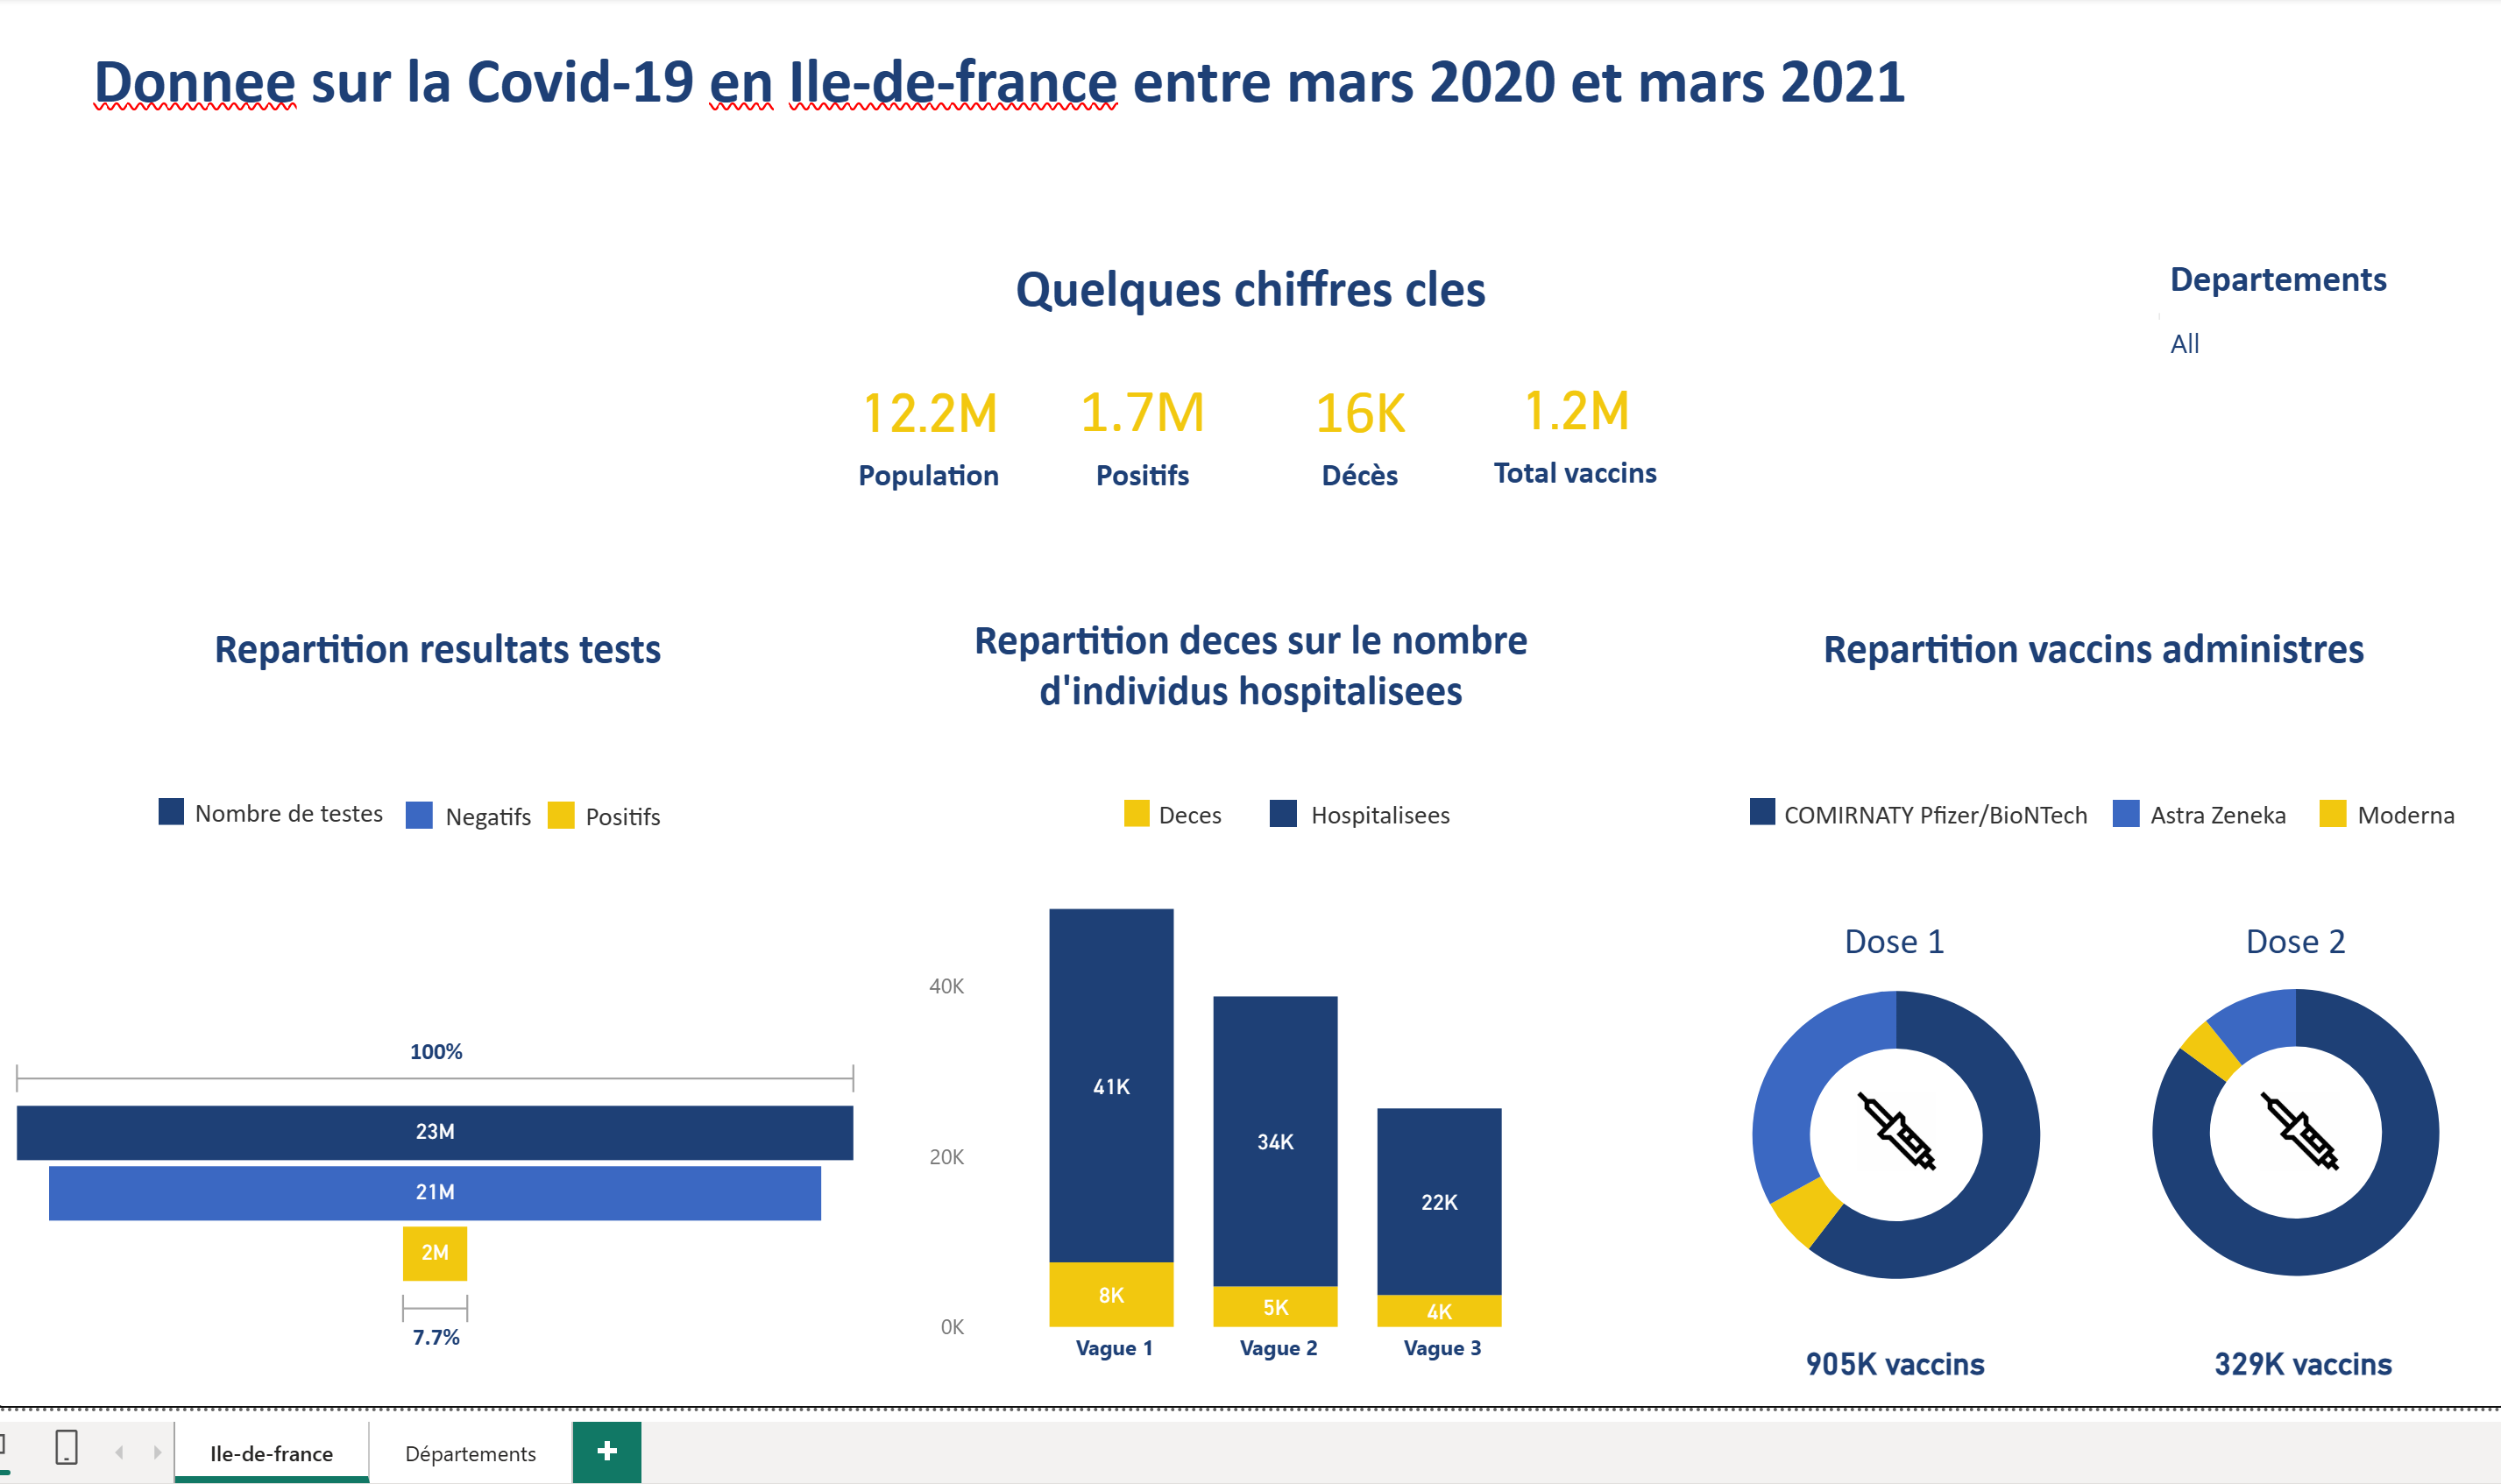

The page's visual inventory and layout, read from the dashboard file:
{"tool":"powerbi","page":{"name":"Ile-de-france","canvas":[1280,720],"ordinal":0},"visuals":[{"type":"textbox","box":[44.2,18.3,1191.7,60],"z":0},{"type":"card","fields":{"Values":["Sum(hospitaliers.personnes nouvellement décédées)"]},"box":[640,181.8,110,76.9],"z":1000},{"type":"donutChart","fields":{"Y":["Sum(vaccins.V1-D1)","Sum(vaccins.V2-D1)","Sum(vaccins.V3-D1)"]},"box":[868.4,483.5,201.3,193.7],"z":2000},{"type":"card","fields":{"Values":["Sum(tests.positifs)"]},"box":[529.8,181.9,110,76.5],"z":3000},{"type":"donutChart","fields":{"Y":["Sum(vaccins.V1-D2)","Sum(vaccins.V2-D2)","Sum(vaccins.V3-D2)"]},"box":[1072.2,482.8,201.3,193],"z":4000},{"type":"card","fields":{"Values":["Jours.total vaccins"]},"box":[750,181,110,76.2],"z":5000},{"type":"textbox","box":[485,127.1,310,54.3],"z":6000},{"type":"slicer","fields":{"Values":["département.Departement"]},"box":[1092.9,151.5,185.3,54.1],"z":7000},{"type":"card","fields":{"Values":["Sum(département.Population)"]},"box":[420,181.8,110,76.9],"z":8000},{"type":"image","box":[940.5,554.1,54.4,53.2],"z":9000},{"type":"textbox","box":[913.5,464.8,110.1,37.1],"z":10000},{"type":"textbox","box":[1118,464.8,110.1,37.1],"z":11000},{"type":"columnChart","fields":{"Y":["Sum(hospitaliers.personnes nouvellement décédées)","Sum(hospitaliers.nouveaux hospitalisées)"],"Category":["Jours.vague"]},"box":[470.4,447,339.2,259.5],"z":12000},{"type":"image","box":[1146.8,554.1,54.4,53.2],"z":13000},{"type":"funnel","fields":{"Y":["Sum(tests.testés)","Sum(tests.négatifs)","Sum(tests.positifs)"]},"box":[0,523.6,446.8,174.7],"z":14000},{"type":"shape","box":[208.6,410.7,13.8,13.8],"z":15000},{"type":"card","fields":{"Values":["Jours.Measure 2"]},"box":[885.3,676.7,166.3,42.3],"z":16000},{"type":"shape","box":[82.7,408.8,13.1,13.8],"z":17000},{"type":"shape","box":[575.3,409.1,13.1,13.8],"z":18000,"group":"g1"},{"type":"shape","box":[1079.2,409.4,13.8,13.8],"z":18000},{"type":"shape","box":[649.2,408.9,13.9,13.8],"z":19000,"group":"g2"},{"type":"shape","box":[894.3,409.1,13.1,13.8],"z":19000},{"type":"textbox","box":[1093.7,401.4,92.1,29.5],"z":20000},{"type":"shape","box":[1185.5,409.3,13.8,13.8],"z":21000},{"type":"card","fields":{"Values":["vaccins.nb vaccins dose 2"]},"box":[1093.9,676.7,166.3,42.3],"z":22000},{"type":"textbox","box":[907.2,401.5,178.5,29.1],"z":23000},{"type":"textbox","box":[1199.5,401.6,73.2,29.5],"z":24000},{"type":"textbox","box":[588,401.5,53.4,29.1],"z":25000,"group":"g1"},{"type":"shape","box":[281.1,410.3,13.8,13.8],"z":25000},{"type":"textbox","box":[70,314.1,310,54.3],"z":26000},{"type":"textbox","box":[223.7,402.7,69.6,29.1],"z":27000},{"type":"textbox","box":[478.6,309.5,322.6,65.5],"z":28000},{"type":"textbox","box":[665.5,401.2,97.6,29.8],"z":29000,"group":"g2"},{"type":"textbox","box":[295.2,402.7,73.2,29.5],"z":29000},{"type":"textbox","box":[95.4,401.1,129.1,29.1],"z":30000},{"type":"textbox","box":[904.3,314.3,331.4,54.3],"z":31000},{"type":"shape","box":[1100.9,187.5,176.4,20],"z":32000},{"type":"shape","box":[1103.6,148.4,176.4,20],"z":33000},{"type":"textbox","box":[1103.6,127.3,161.8,37.3],"z":34000},{"type":"shape","box":[1096.3,164.2,11.1,28.4],"z":35000},{"type":"shape","box":[1247.1,161,28.2,29.4],"z":36000},{"type":"group","id":"g1","title":"Group 1","box":[575.3,401.5,66.2,29.1],"z":37000},{"type":"group","id":"g2","title":"Group 2","box":[649.2,401.2,113.9,29.8],"z":38000}]}

Visuals, with their boxes on the page's 1280x720 design canvas (x1, y1, x2, y2). These are canvas units, not pixel positions in the 2501x1484 screenshot, which may show the page scaled, cropped or inside an application window:
textbox: 44/18/1236/78
card - Sum(hospitaliers.personnes nouvellement décédées): 640/182/750/259
donutChart - Sum(vaccins.V1-D1) x Sum(vaccins.V2-D1): 868/484/1070/677
card - Sum(tests.positifs): 530/182/640/258
donutChart - Sum(vaccins.V1-D2) x Sum(vaccins.V2-D2): 1072/483/1274/676
card - Jours.total vaccins: 750/181/860/257
textbox: 485/127/795/181
slicer - département.Departement: 1093/152/1278/206
card - Sum(département.Population): 420/182/530/259
image: 940/554/995/607
textbox: 914/465/1024/502
textbox: 1118/465/1228/502
columnChart - Sum(hospitaliers.personnes nouvellement décédées) x Sum(hospitaliers.nouveaux hospitalisées): 470/447/810/706
image: 1147/554/1201/607
funnel - Sum(tests.testés) x Sum(tests.négatifs): 0/524/447/698
shape: 209/411/222/424
card - Jours.Measure 2: 885/677/1052/719
shape: 83/409/96/423
shape: 575/409/588/423
shape: 1079/409/1093/423
shape: 649/409/663/423
shape: 894/409/907/423
textbox: 1094/401/1186/431
shape: 1186/409/1199/423
card - vaccins.nb vaccins dose 2: 1094/677/1260/719
textbox: 907/402/1086/431
textbox: 1200/402/1273/431
textbox: 588/402/641/431
shape: 281/410/295/424
textbox: 70/314/380/368
textbox: 224/403/293/432
textbox: 479/310/801/375
textbox: 666/401/763/431
textbox: 295/403/368/432
textbox: 95/401/224/430
textbox: 904/314/1236/369
shape: 1101/188/1277/208
shape: 1104/148/1280/168
textbox: 1104/127/1265/165
shape: 1096/164/1107/193
shape: 1247/161/1275/190
"Group 1" group: 575/402/642/431
"Group 2" group: 649/401/763/431
